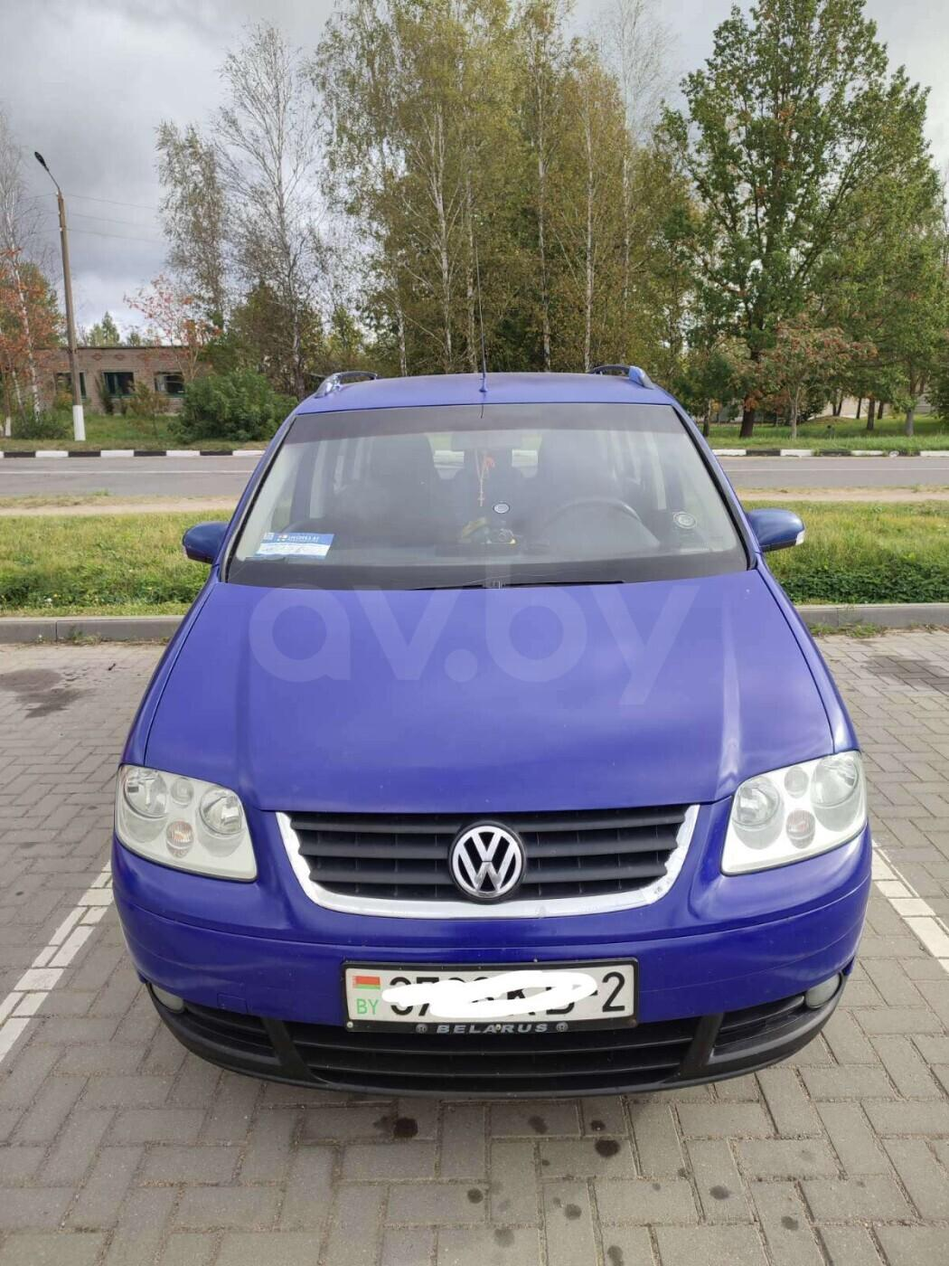Touran_2003-2006: (112, 367, 877, 1087)
